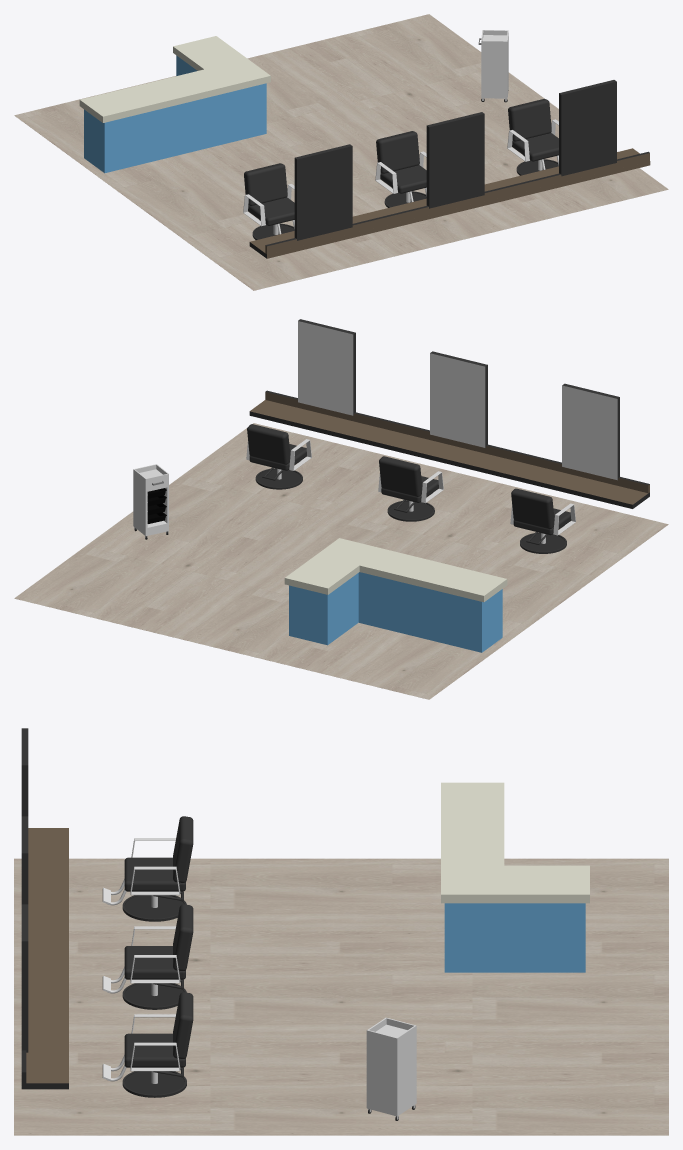
Rendered from hair_salon.fbx.
The picture shows the model from 3 angles, top to bottom: view 1: azimuth 30°, elevation 25°; view 2: azimuth 150°, elevation 25°; view 3: azimuth 270°, elevation 25°; orthographic projection. The views are drawn at different scales.
Visible parts, largest first — view 1: Floor, counter, Desk, pCube10, pCube11, pCube9, pCube1 (×3), pCube2 (×3), pCube18; view 2: Floor, counter, Desk, pCube10, pCube9, pCube11, pCube1 (×3), pCylinder3 (×3), pCube18; view 3: Floor, counter, Desk, pCube2 (×3), pCube18, pCylinder3 (×3), pCube1 (×3), pCube9, pCube11, pCube10.
Part boxes in pixels (box(x1,y1,x2,y2)): Floor: box(14, 14, 668, 290); counter: box(79, 36, 270, 173); Desk: box(249, 148, 650, 258); pCube10: box(426, 112, 484, 208); pCube11: box(294, 144, 352, 240); pCube9: box(559, 80, 616, 176); pCube1 (×3): box(244, 98, 551, 205); pCube2 (×3): box(248, 133, 558, 225); pCube18: box(481, 30, 508, 98); Floor: box(14, 423, 668, 699); counter: box(284, 538, 507, 652); Desk: box(249, 390, 649, 508); pCube10: box(430, 351, 487, 447); pCube9: box(298, 319, 355, 415); pCube11: box(562, 383, 619, 480); pCube1 (×3): box(247, 424, 554, 529); pCylinder3 (×3): box(255, 468, 566, 553); pCube18: box(133, 464, 168, 535); Floor: box(14, 858, 668, 1135); counter: box(441, 782, 589, 972); Desk: box(21, 828, 68, 1089); pCube2 (×3): box(124, 857, 185, 1067); pCube18: box(366, 1017, 416, 1116); pCylinder3 (×3): box(122, 895, 186, 1097); pCube1 (×3): box(173, 816, 193, 1058); pCube9: box(21, 904, 28, 1052); pCube11: box(21, 728, 28, 816); pCube10: box(21, 816, 28, 904).
Size of the model in its own units: 1000 by 272 by 1000.
